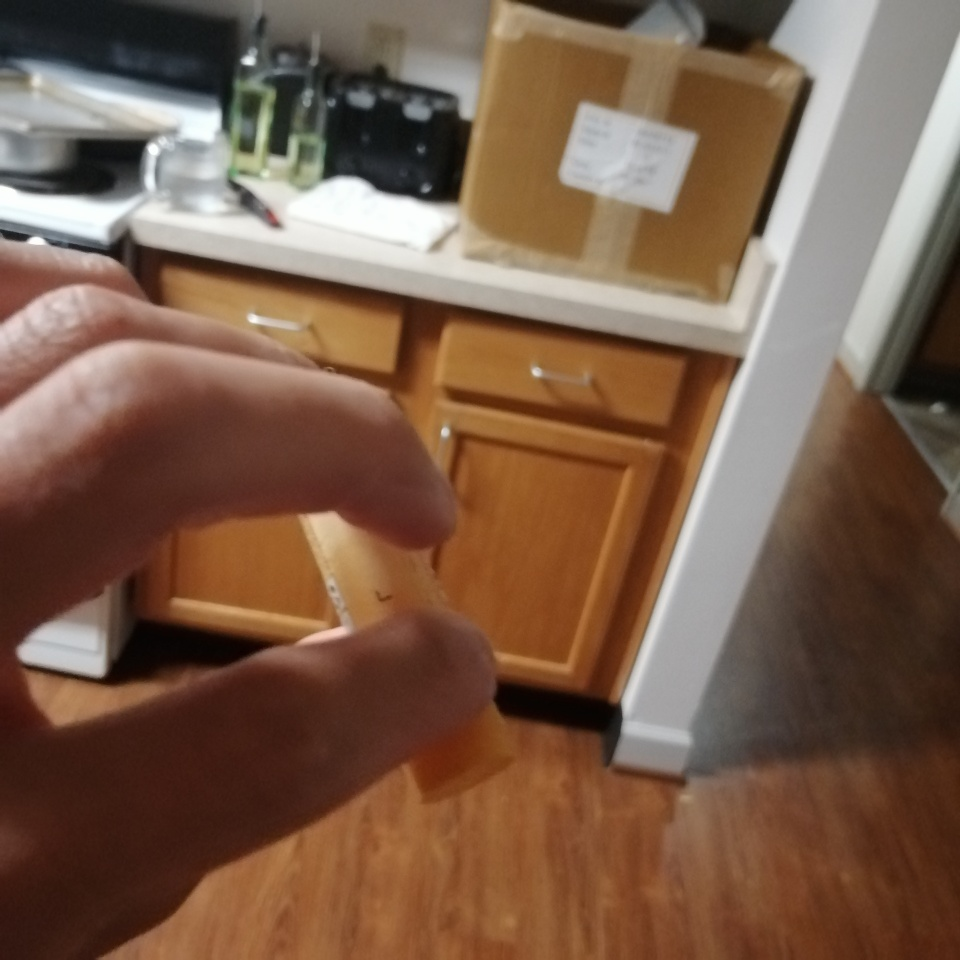chapstick: (297, 508, 516, 806)
